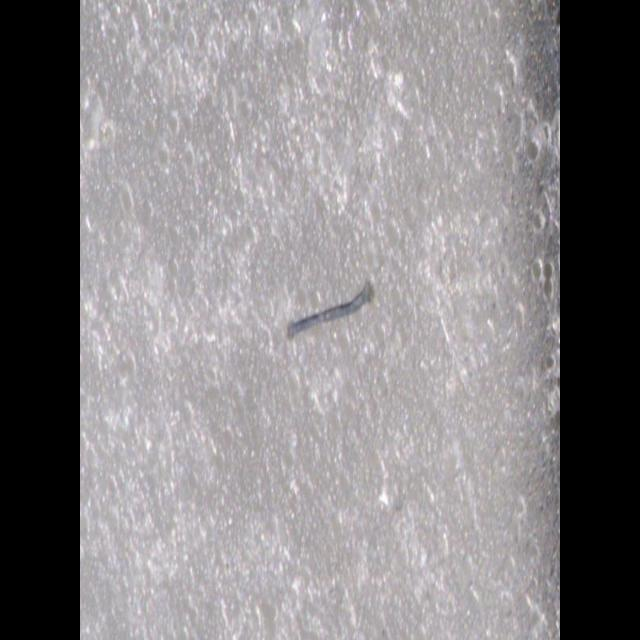Fibre: (286, 277, 374, 339)
